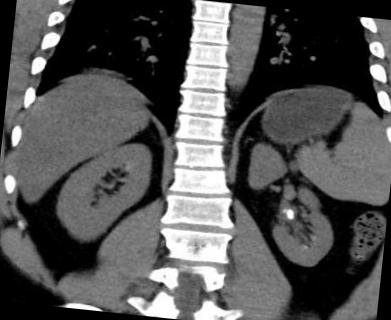Tas_Var: (284, 208, 294, 220)
